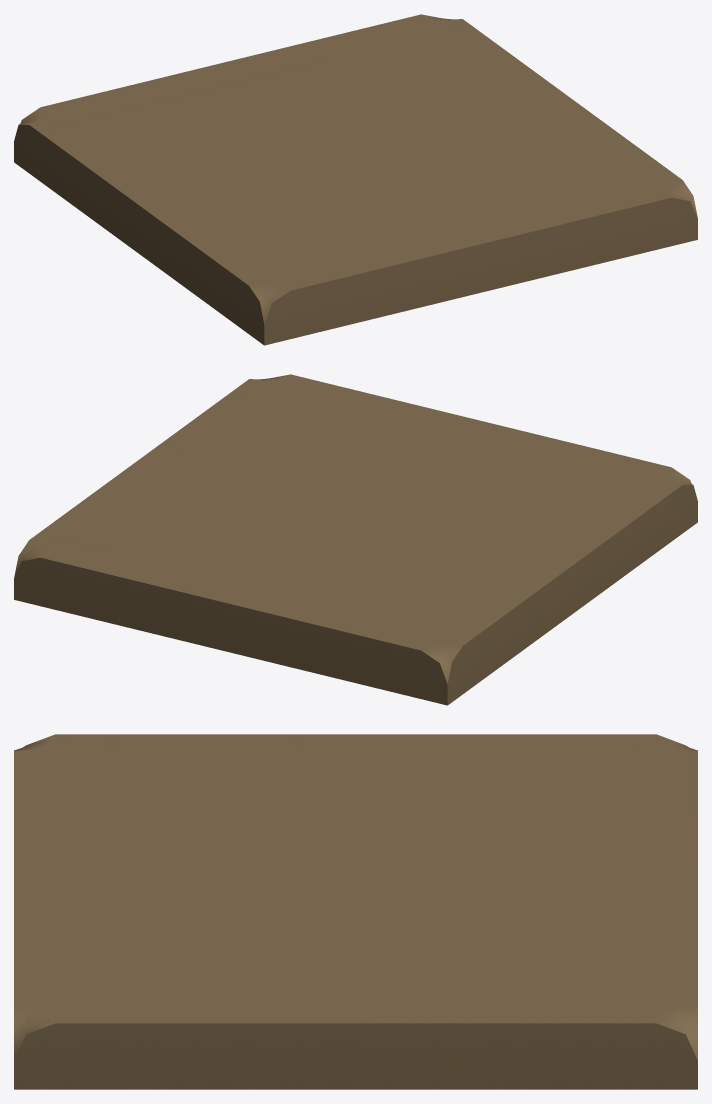
File: SM_Base_Indent_4.fbx
The picture shows the model from 3 angles, top to bottom: view 1: azimuth 30°, elevation 25°; view 2: azimuth 150°, elevation 25°; view 3: azimuth 270°, elevation 25°; orthographic projection. The views are drawn at different scales.
Parts seen in each view (by area): view 1: Base_Indent_4; view 2: Base_Indent_4; view 3: Base_Indent_4.
Boxes of the visible parts, <box> form: Base_Indent_4: <box>14,14,697,345</box>; Base_Indent_4: <box>14,374,697,705</box>; Base_Indent_4: <box>14,734,697,1089</box>.
Bounding box in the file's own units: 200 × 21.42 × 200.
